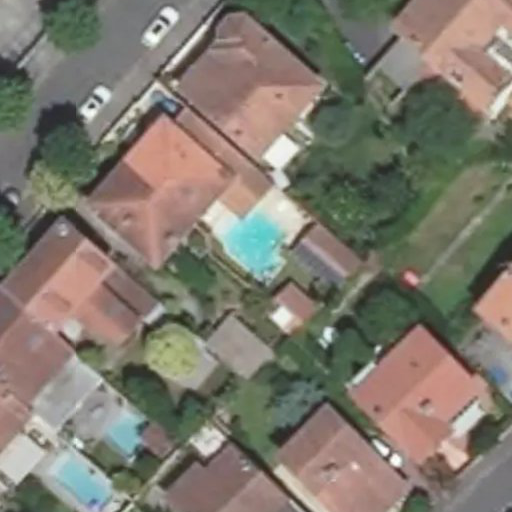pool: (217, 235, 301, 240)
